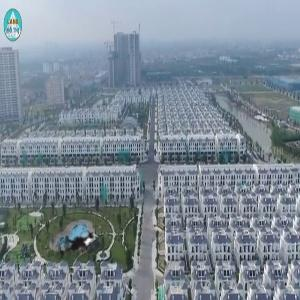drone: (46, 217, 112, 283)
